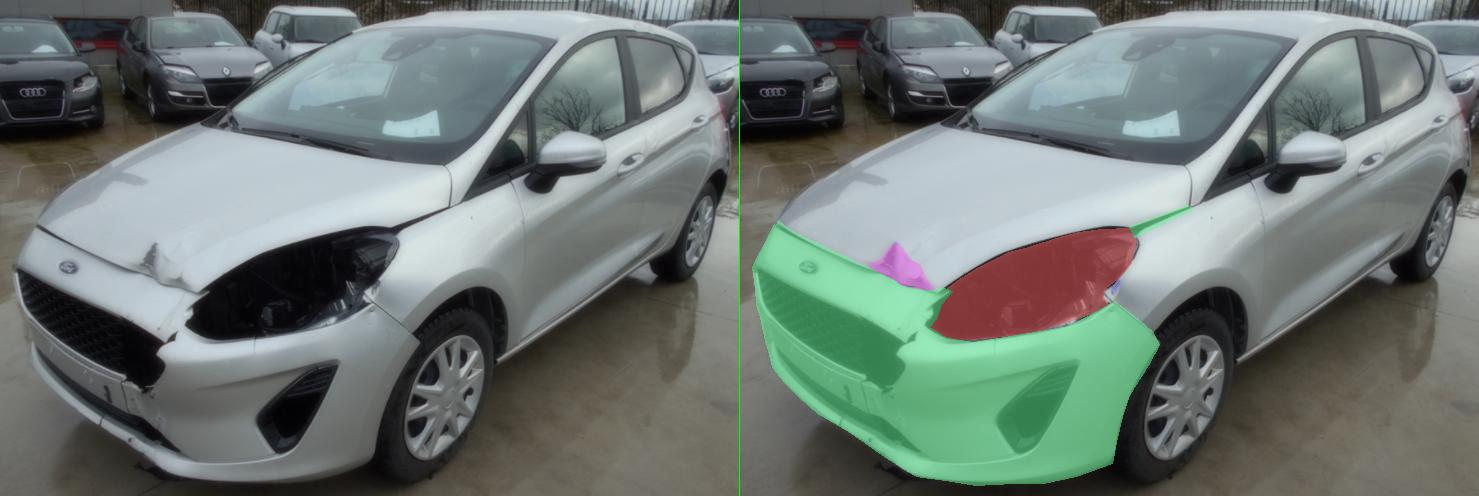Broken part: (24, 224, 839, 485), (70, 220, 296, 277), (779, 205, 907, 237)
Dent: (258, 242, 388, 289)
Missing part: (376, 228, 793, 339)
Scratch: (280, 241, 314, 274), (745, 278, 765, 294), (350, 273, 366, 282)
